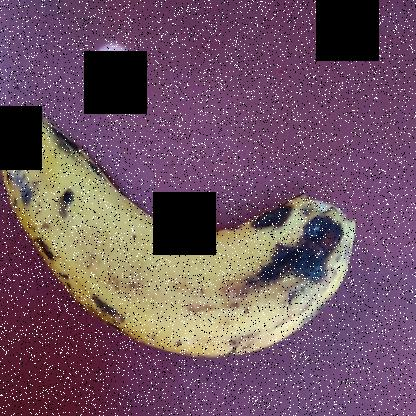overripe: (0, 93, 368, 386)
